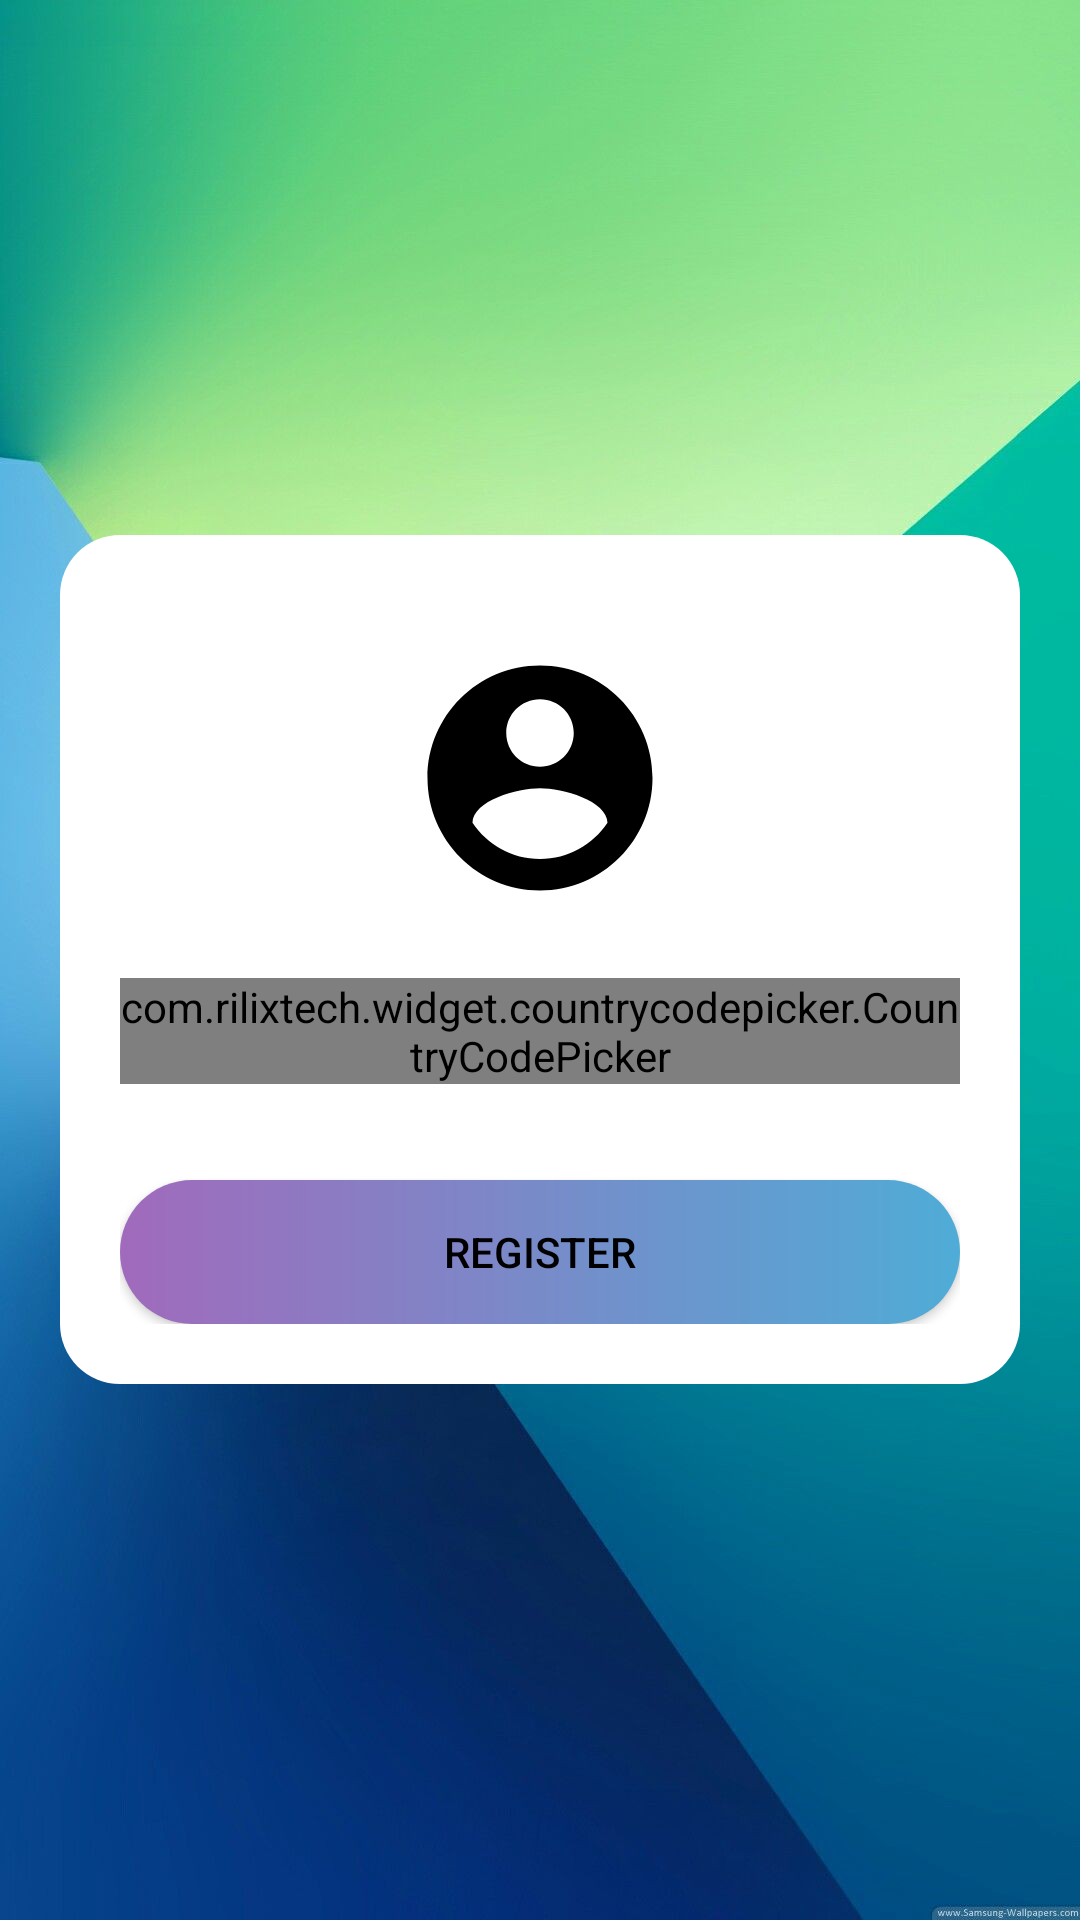

Screen size 1080 × 1920. Icon name, then its center in pixels as (x=x, y=y):
account circle: (x=540, y=778)
